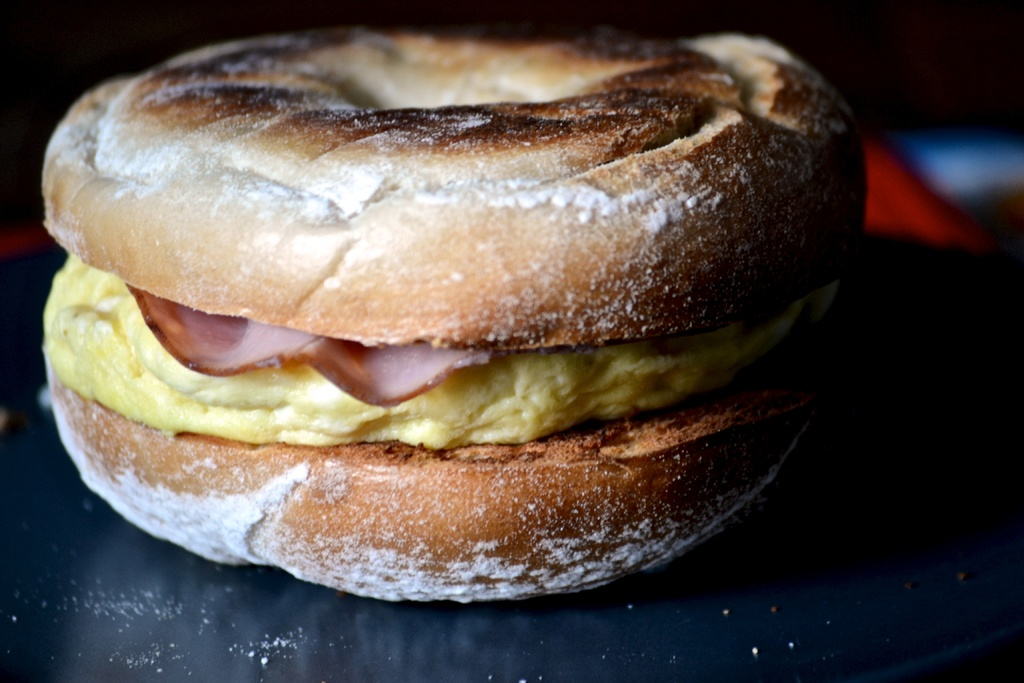Hamburger: (40, 35, 868, 607)
